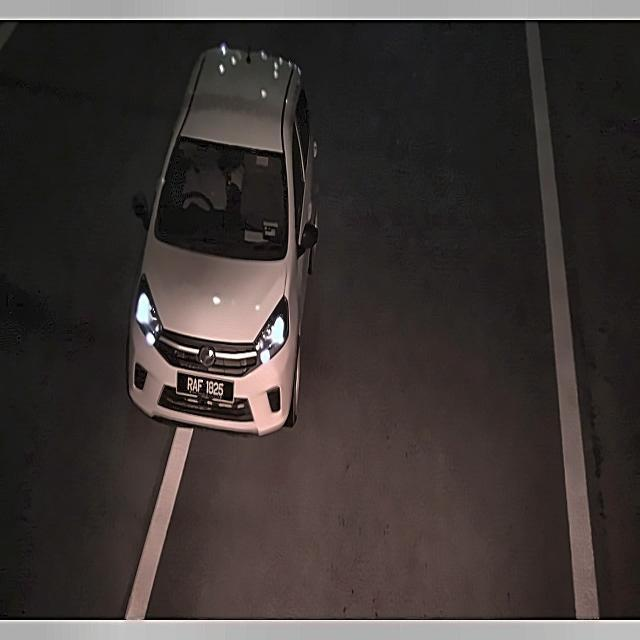car: (175, 370, 236, 406)
